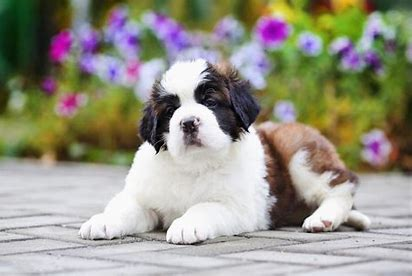dog: (75, 50, 370, 246)
